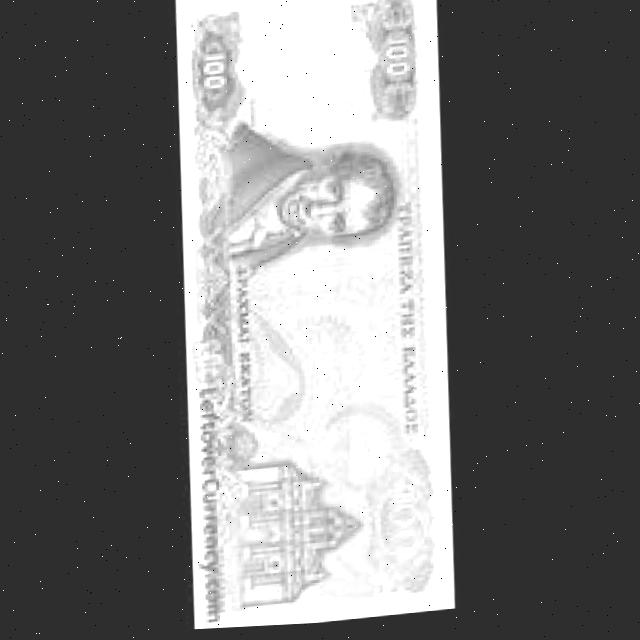banknote: (173, 0, 471, 633), (371, 487, 426, 570), (187, 39, 243, 104), (369, 32, 419, 96)
